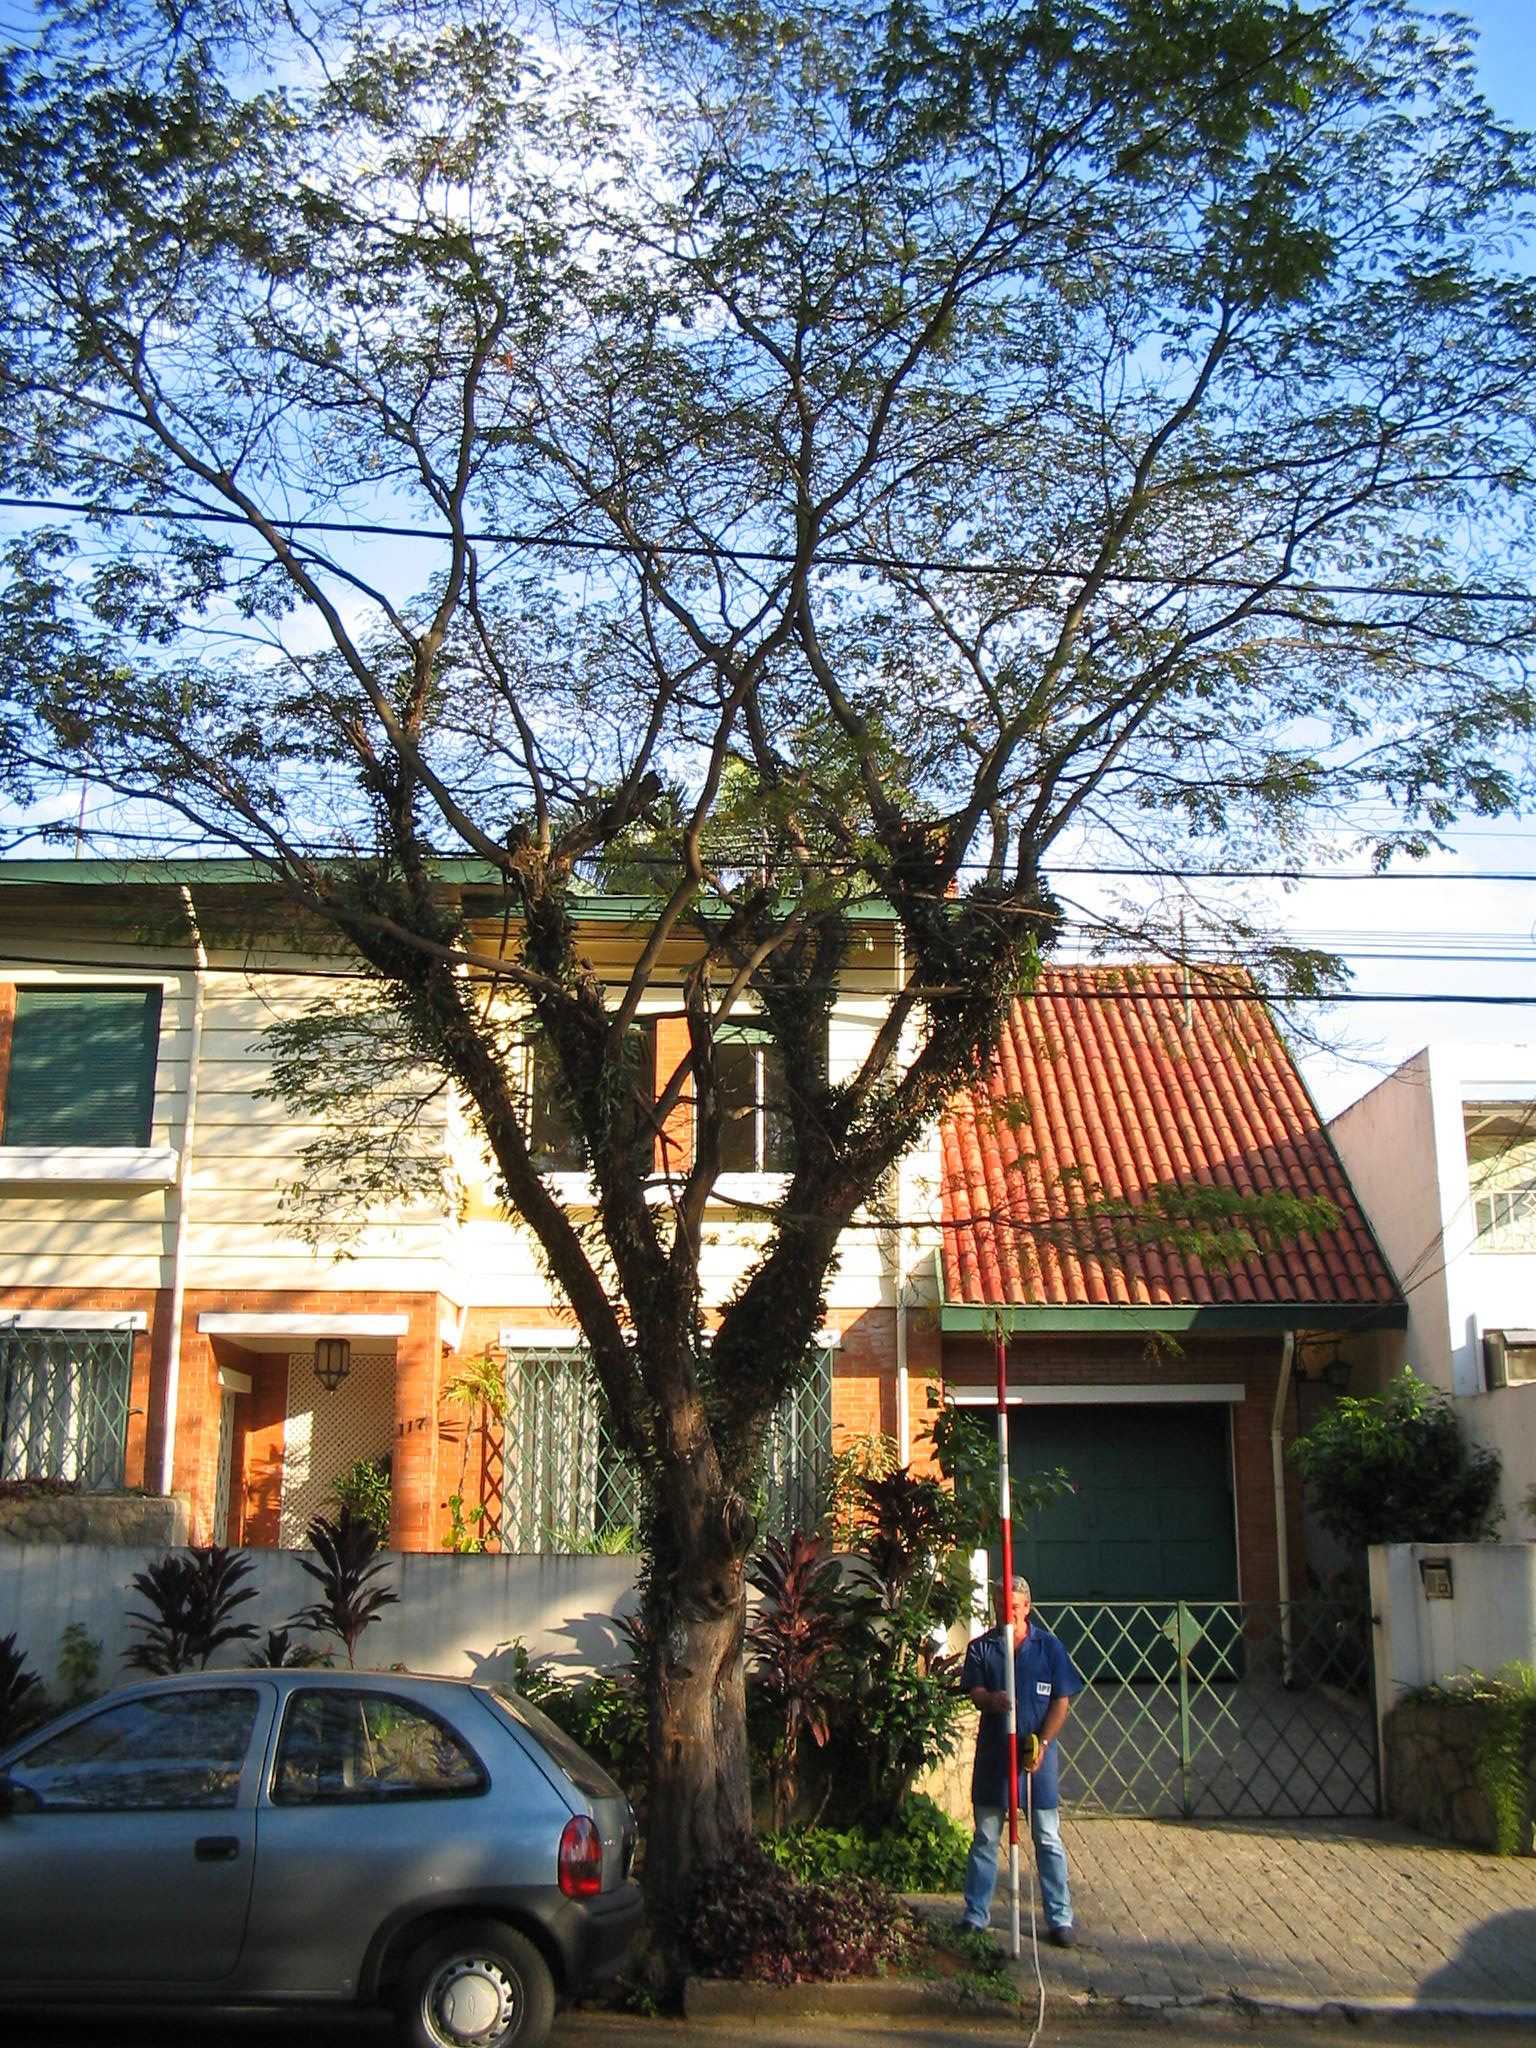crown: (10, 8, 1528, 1263)
stem: (566, 1466, 837, 1975)
stick: (965, 1316, 1058, 1953)
tree: (3, 5, 1528, 1983)
